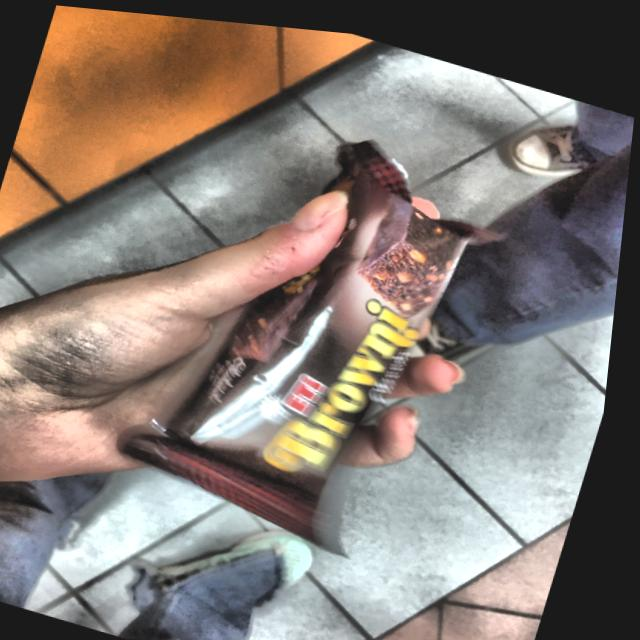Plastic: (124, 140, 491, 549)
